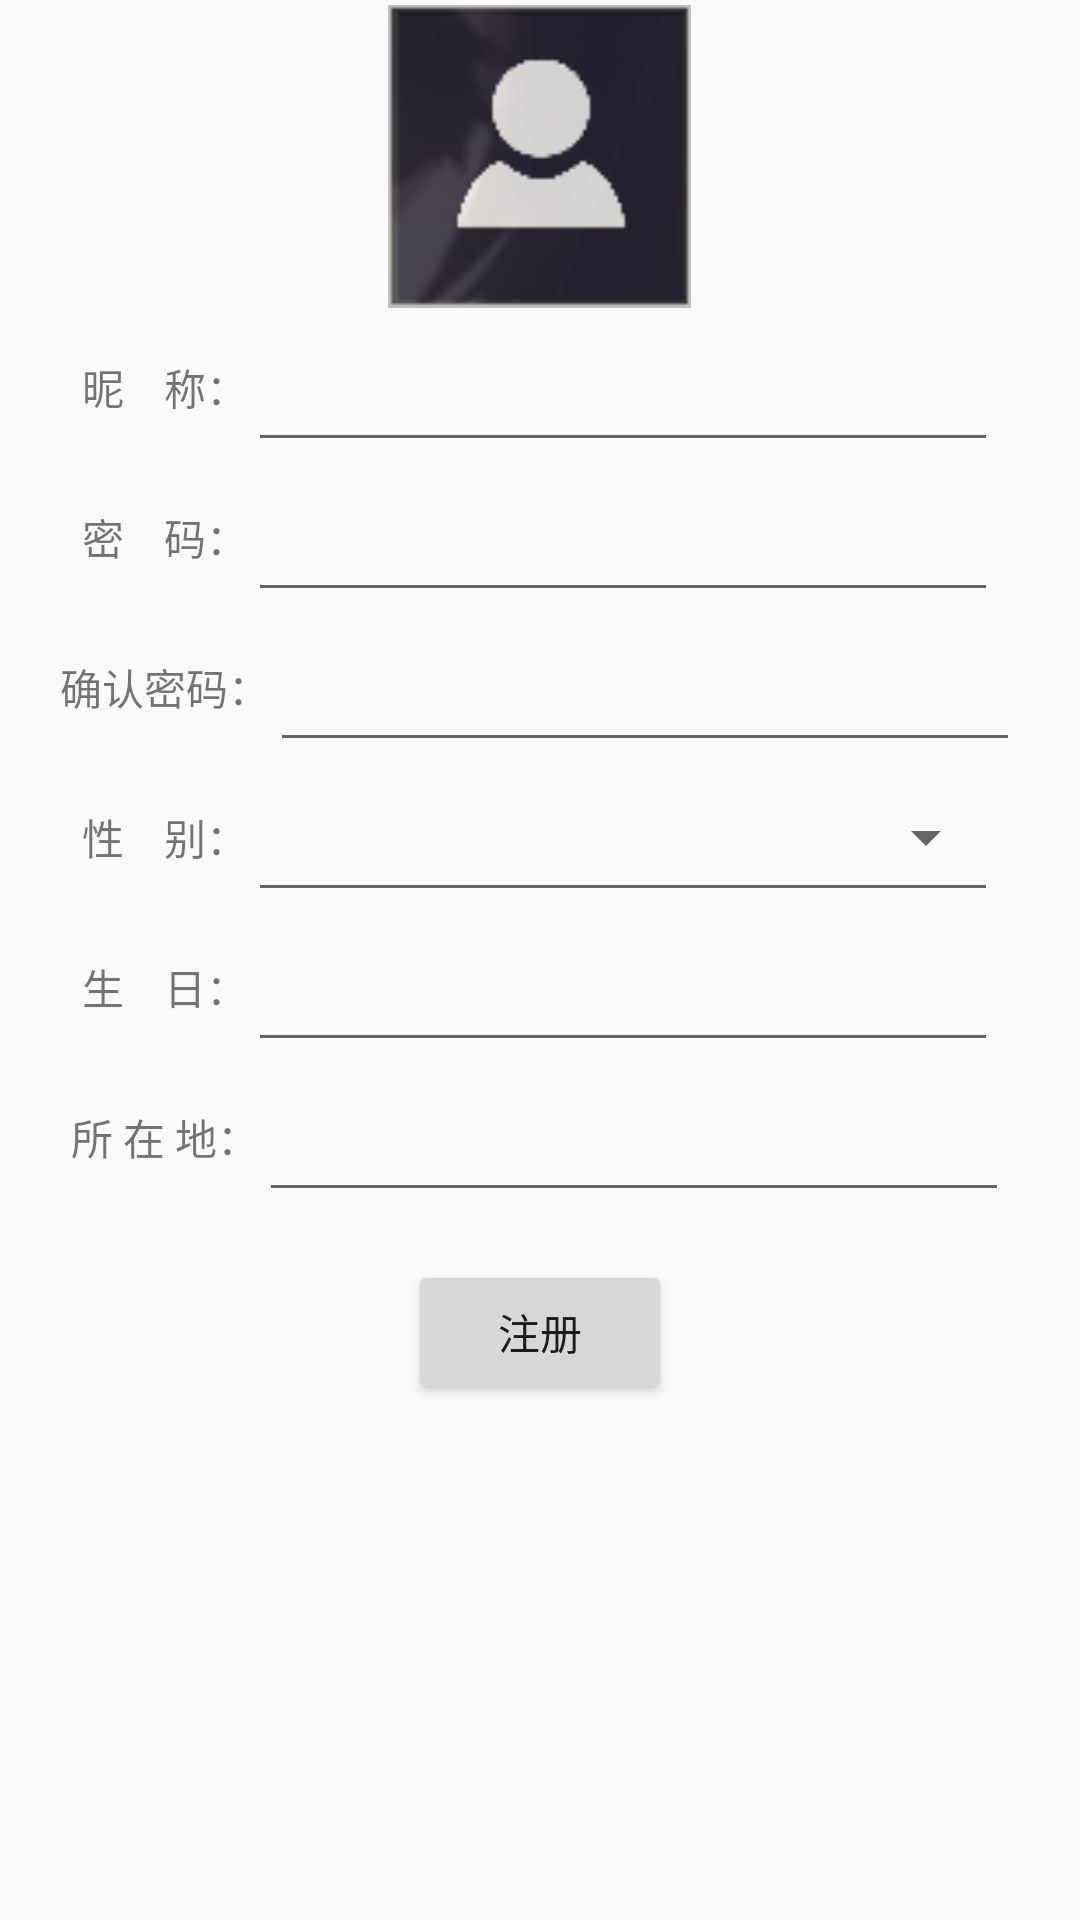

Point at icon controls on the screen. Image size 1080px×1920px, points as (x,y).
profile photo: (539,156)
